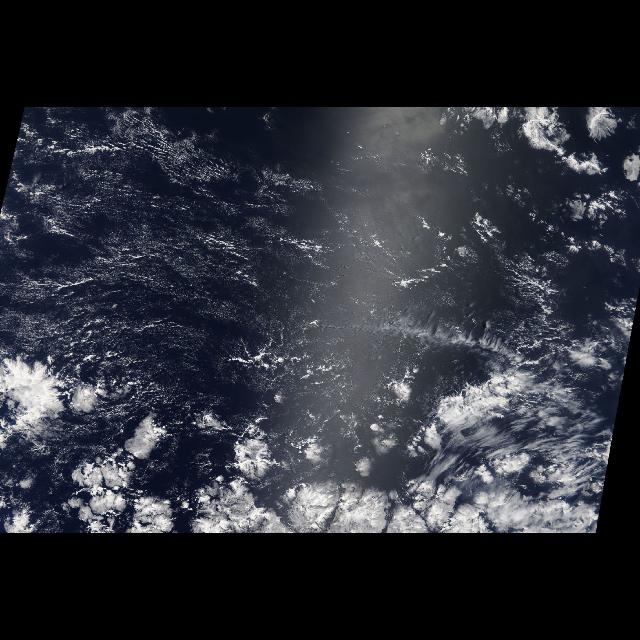Flower: (61, 380, 597, 532), (451, 107, 639, 201)
Sugar: (14, 111, 310, 352)
